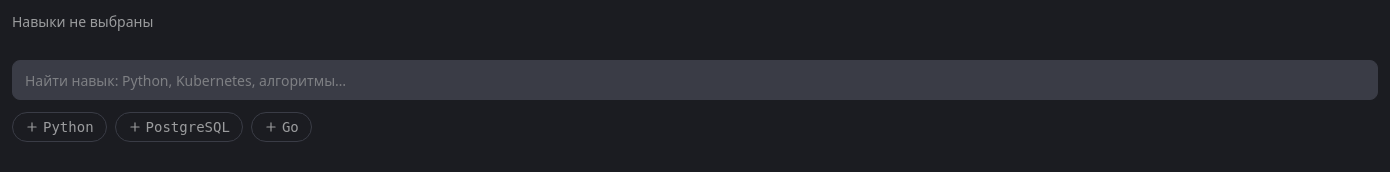
Test: SkillPicker › Enter adds the first match and does not submit the form
The width and height of the screenshot is (1390, 172).
Type "py" into the field labelled "Найти навык". click: point(695, 80)
box: [12,60,1378,100]
Then press Enter
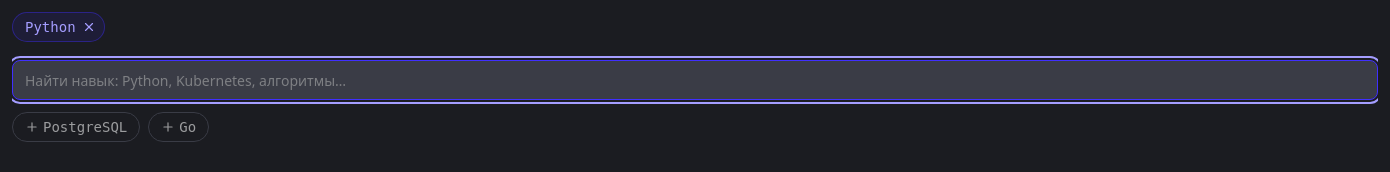
Result: the button with aria-label "Убрать Python" is shown at [12,12,105,42]
